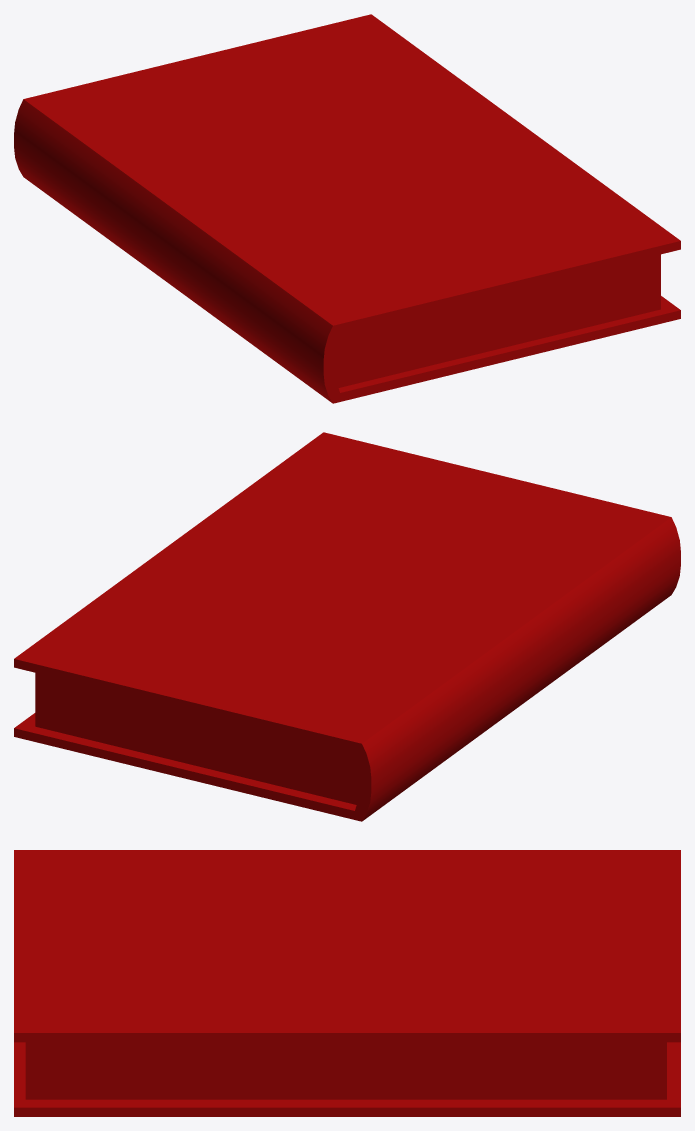
The model's file is Book.FBX.
3 renders of one model, top to bottom at view 1: azimuth 30°, elevation 25°; view 2: azimuth 150°, elevation 25°; view 3: azimuth 270°, elevation 25°, orthographic. The views are drawn at different scales.
Parts seen in each view (by area): view 1: Book01; view 2: Book01; view 3: Book01.
Part boxes in pixels (x1,y1,x2,y2): Book01: (14,14,680,403); Book01: (14,432,680,821); Book01: (14,850,680,1116).
Bounding box in the file's own units: 19.58 × 29.39 × 4.08.
